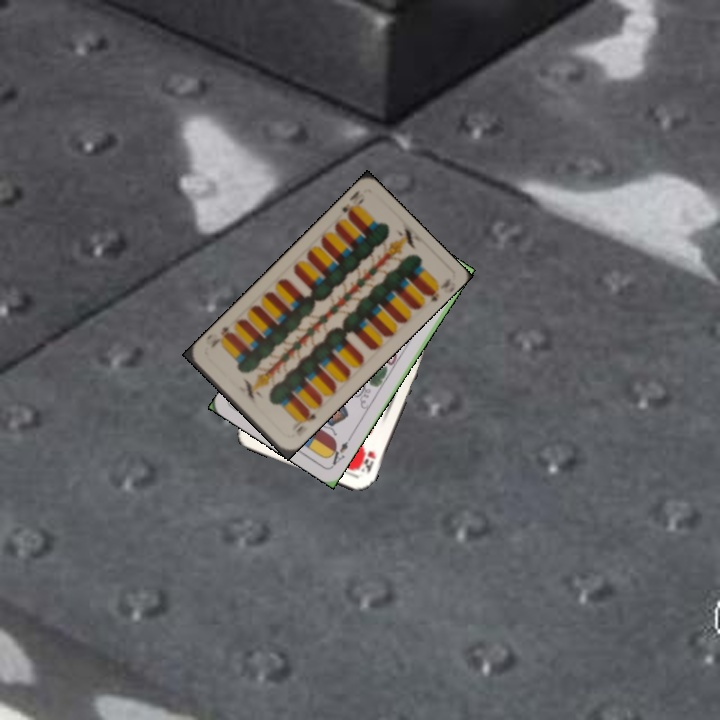E10: (338, 186, 367, 222), (288, 406, 319, 435)
EA: (324, 432, 354, 469)
HK: (355, 447, 378, 475)
